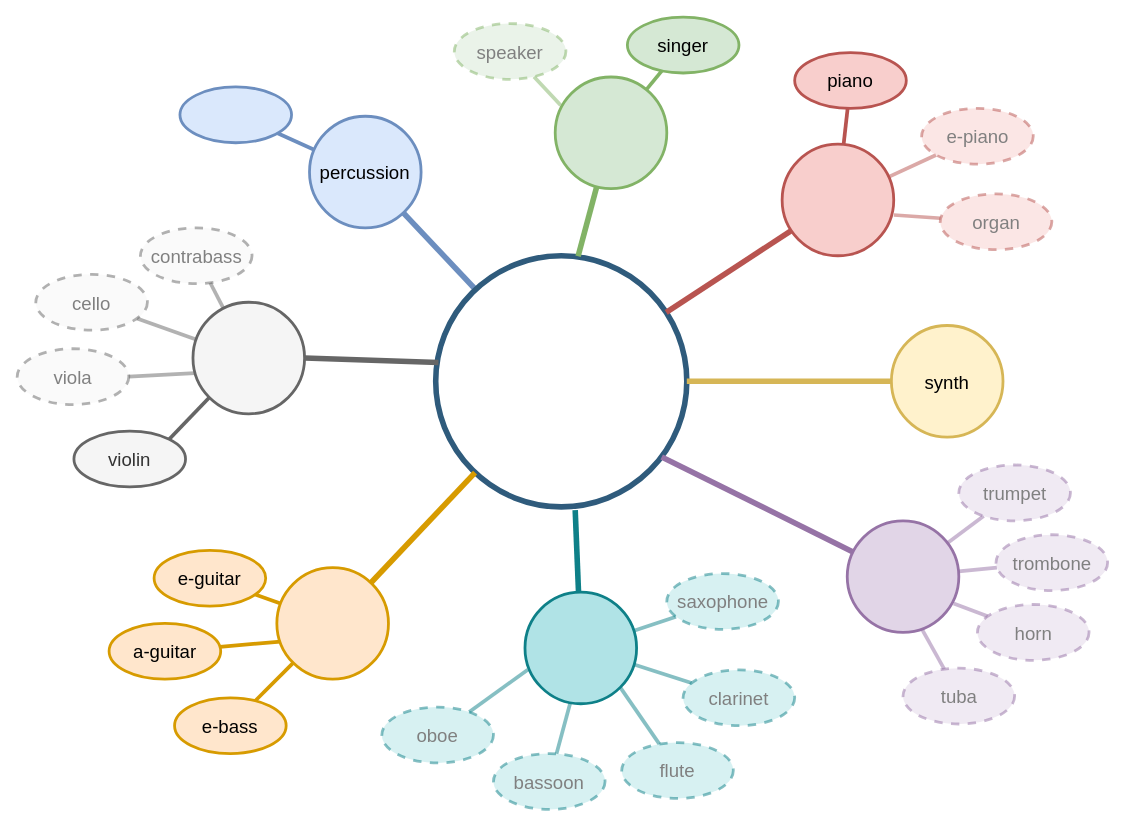
Image size: 1125x827. Some labels were removed from this diagram. The box of each missing label's shape, as (x1, y1, x2, y2) in pixels:
bowed strings: (191, 300, 306, 415)
brass: (845, 519, 960, 633)
drumset: (178, 85, 292, 144)
key: (780, 142, 895, 257)
musical instruments: (432, 252, 689, 509)
plucked strings: (275, 566, 389, 680)
voice: (553, 75, 668, 190)
woodwind: (523, 590, 638, 705)
